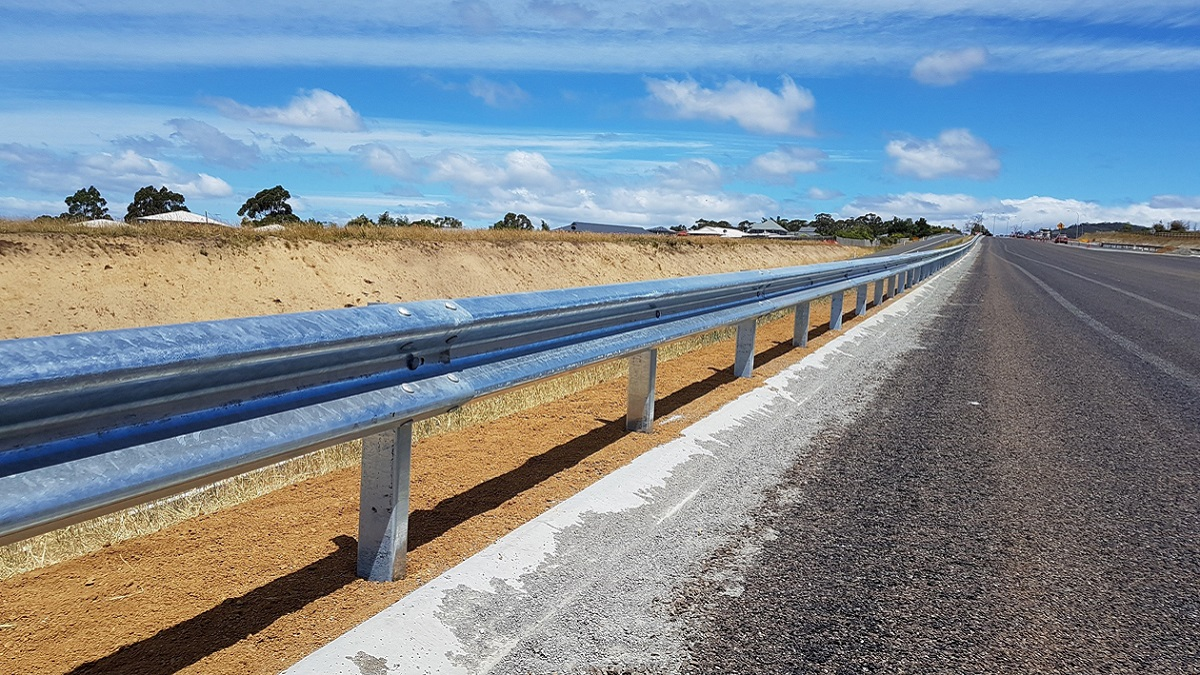not_damaged: (7, 289, 690, 538)
